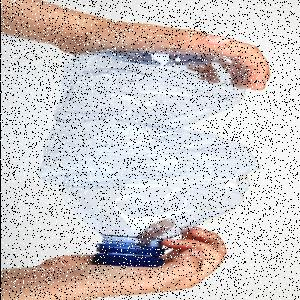Plastic-bottle: (38, 50, 264, 268)
